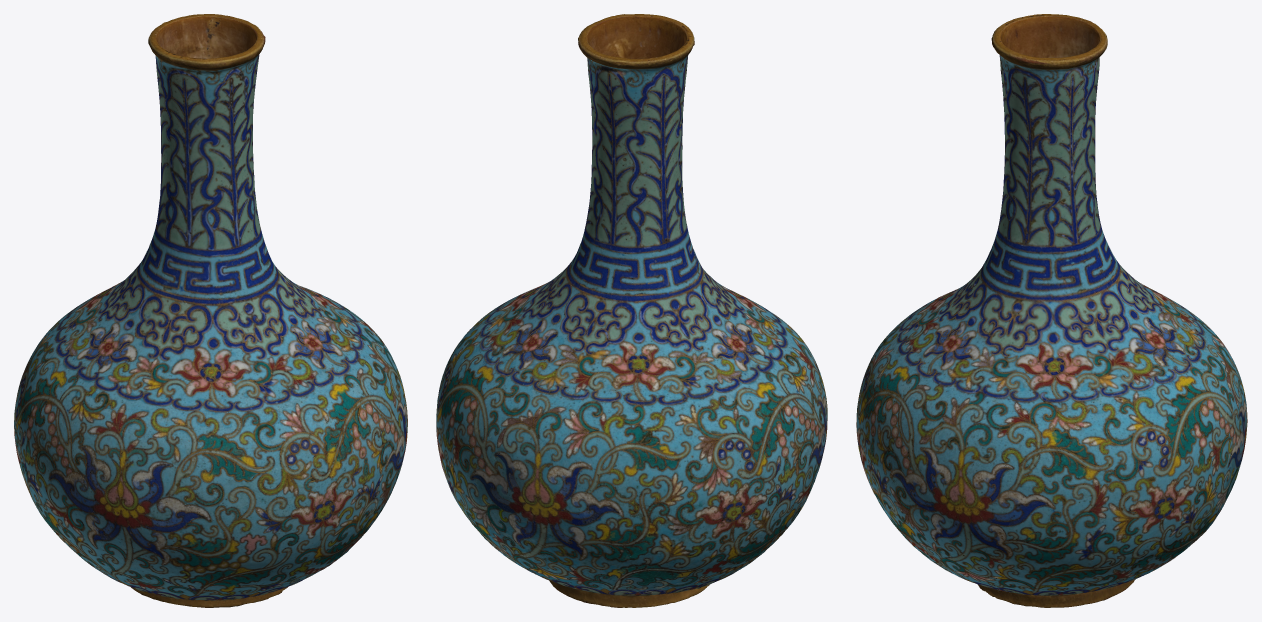
Rendered from 0orniment - 18th_c_chinese_cloisonne_vase.glb.
3 renders of one model, left to right at view 1: azimuth 30°, elevation 25°; view 2: azimuth 150°, elevation 25°; view 3: azimuth 270°, elevation 25°, orthographic.
Visible parts, largest first — view 1: Object_2; view 2: Object_2; view 3: Object_2.
Part boxes in pixels (<box>): Object_2: <box>14,14,407,607</box>; Object_2: <box>436,14,827,607</box>; Object_2: <box>856,14,1247,607</box>.
Bounding box in the file's own units: 0.2984 × 0.453 × 0.2991.
1 material, 1 textured.
